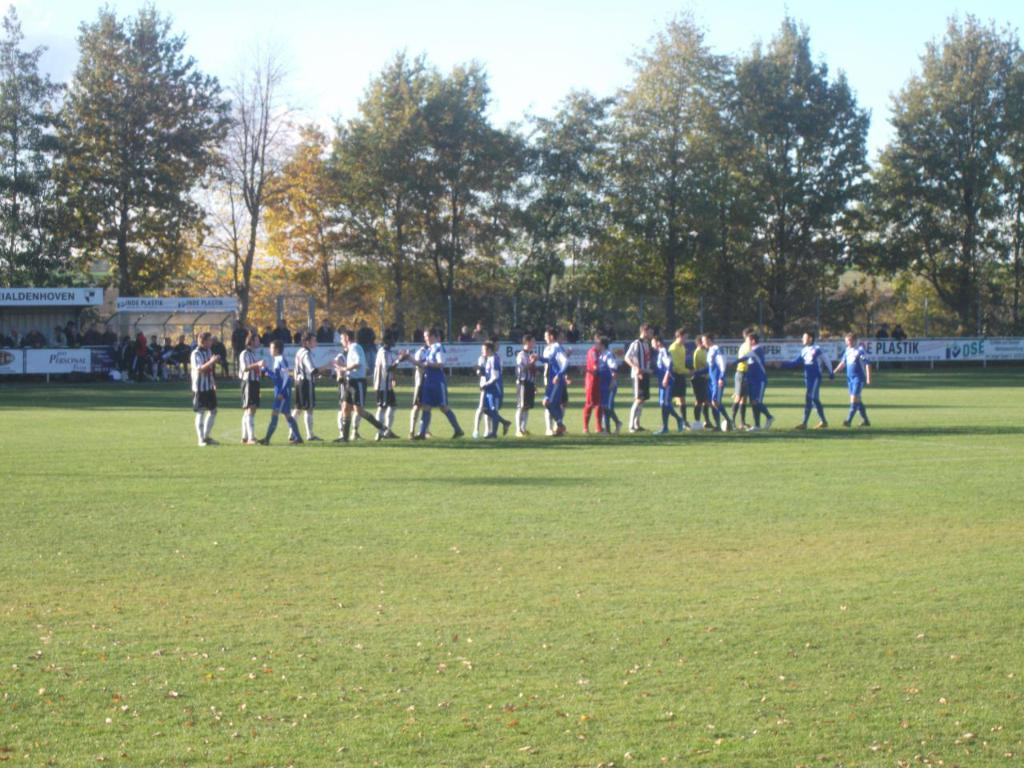Person: (0, 320, 908, 446), (332, 330, 388, 443)
